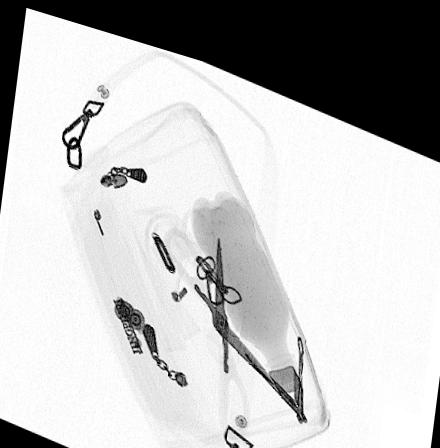Scissors: (159, 216, 302, 426)
